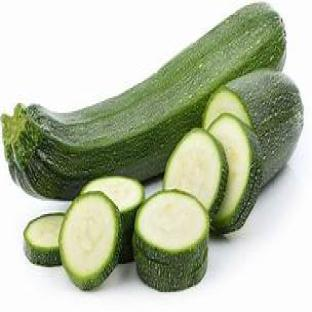Zucchini: (3, 4, 285, 199), (204, 70, 303, 184), (209, 113, 261, 233), (59, 193, 122, 290), (164, 128, 227, 217), (133, 191, 209, 263), (82, 176, 144, 262), (136, 254, 207, 292), (134, 246, 208, 277), (24, 213, 63, 267)
